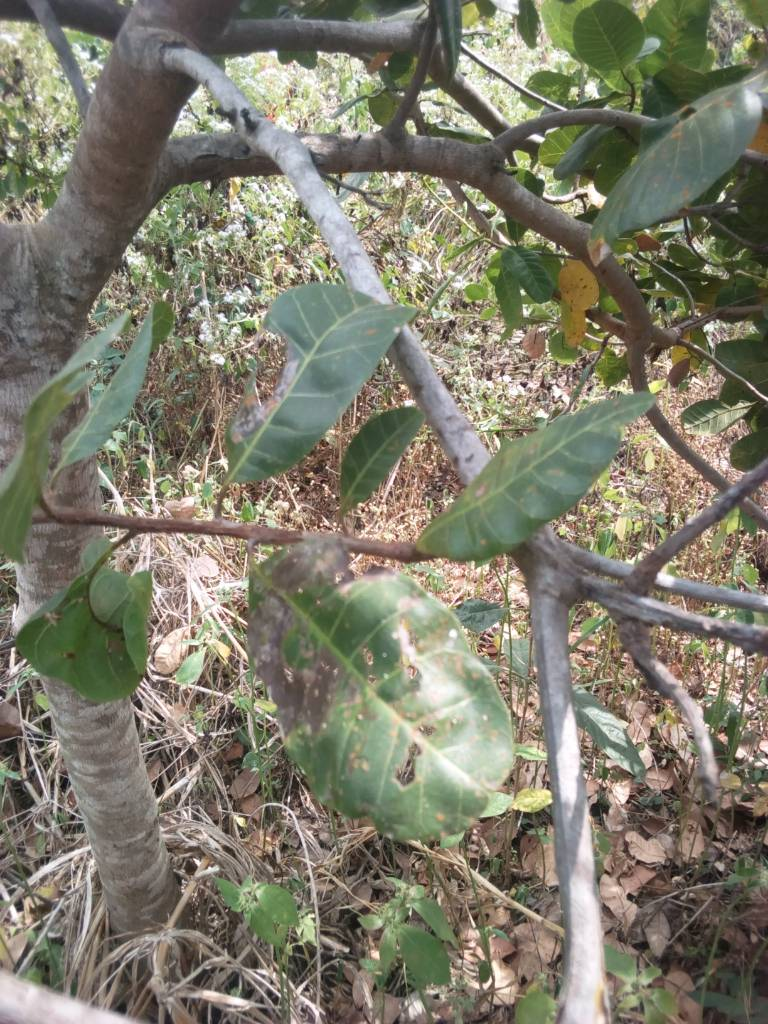Anoplonemis curvipes: (274, 550, 494, 828)
